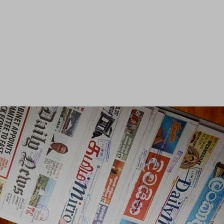news_paper: (65, 105, 169, 224), (47, 104, 134, 224), (138, 105, 224, 224), (116, 105, 201, 224), (20, 104, 104, 224), (0, 103, 64, 224), (177, 133, 224, 223)
